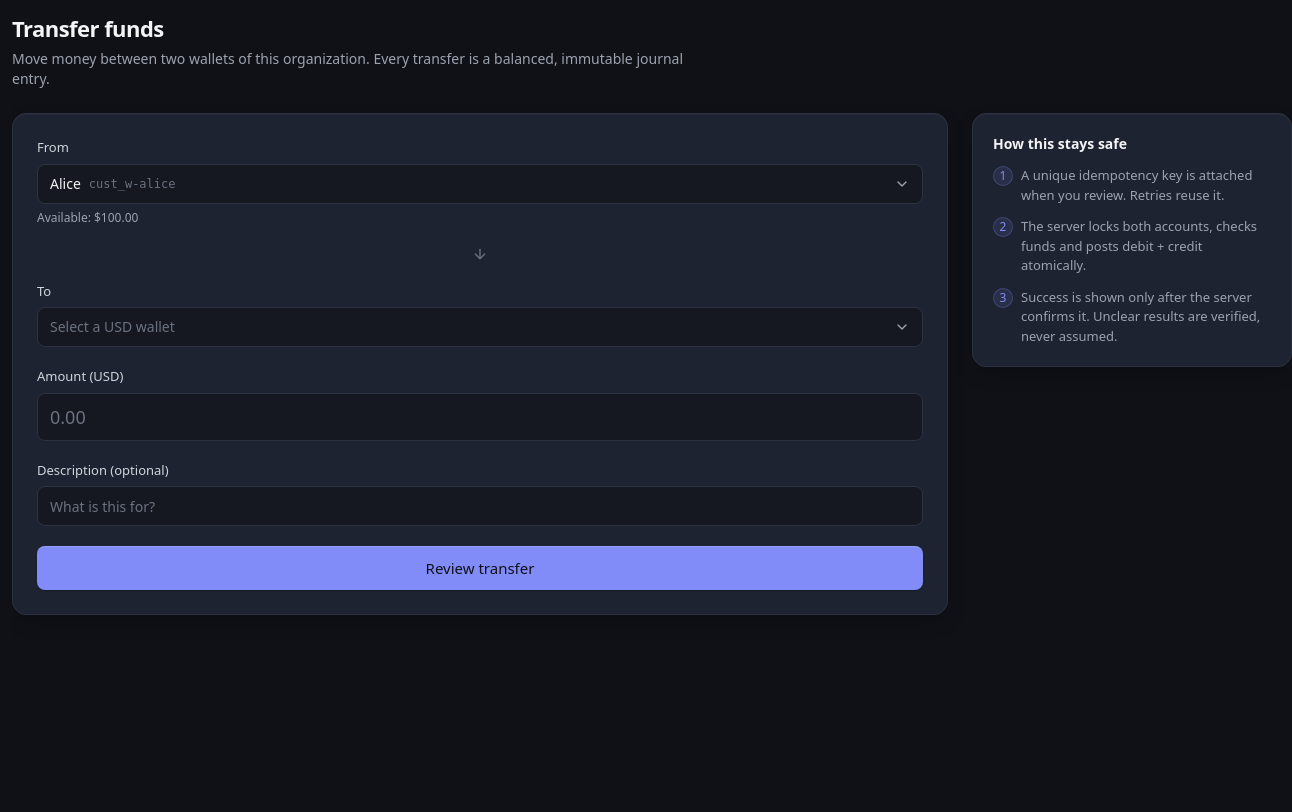
Test: TransferPage › rejects amounts with too many decimals before reviewing
Expected: the text "Available: $100.00" is shown, [37,208,138,226]
Click the dropdown named "to": (112, 326) [37,307,923,347]
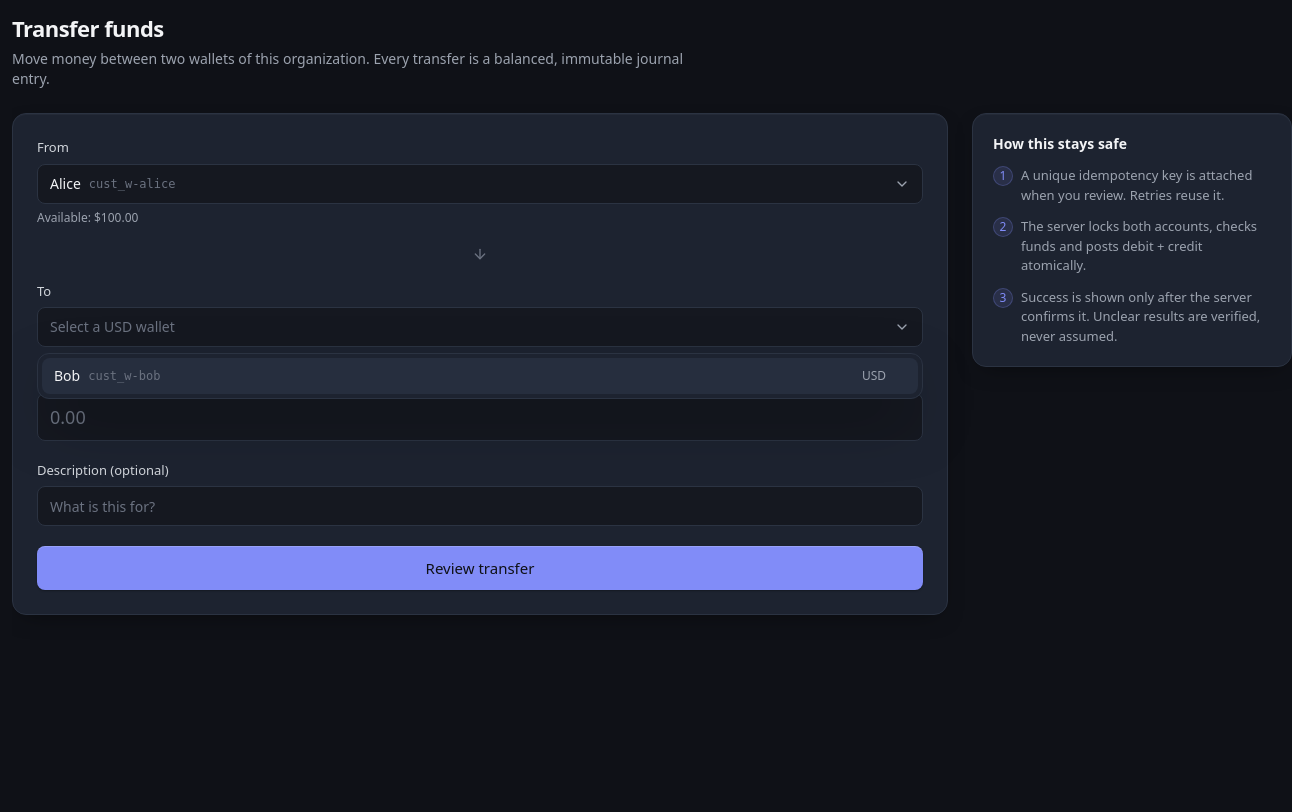
Click the option "Bob cust_w-bob USD": (124, 376) [42,358,918,394]
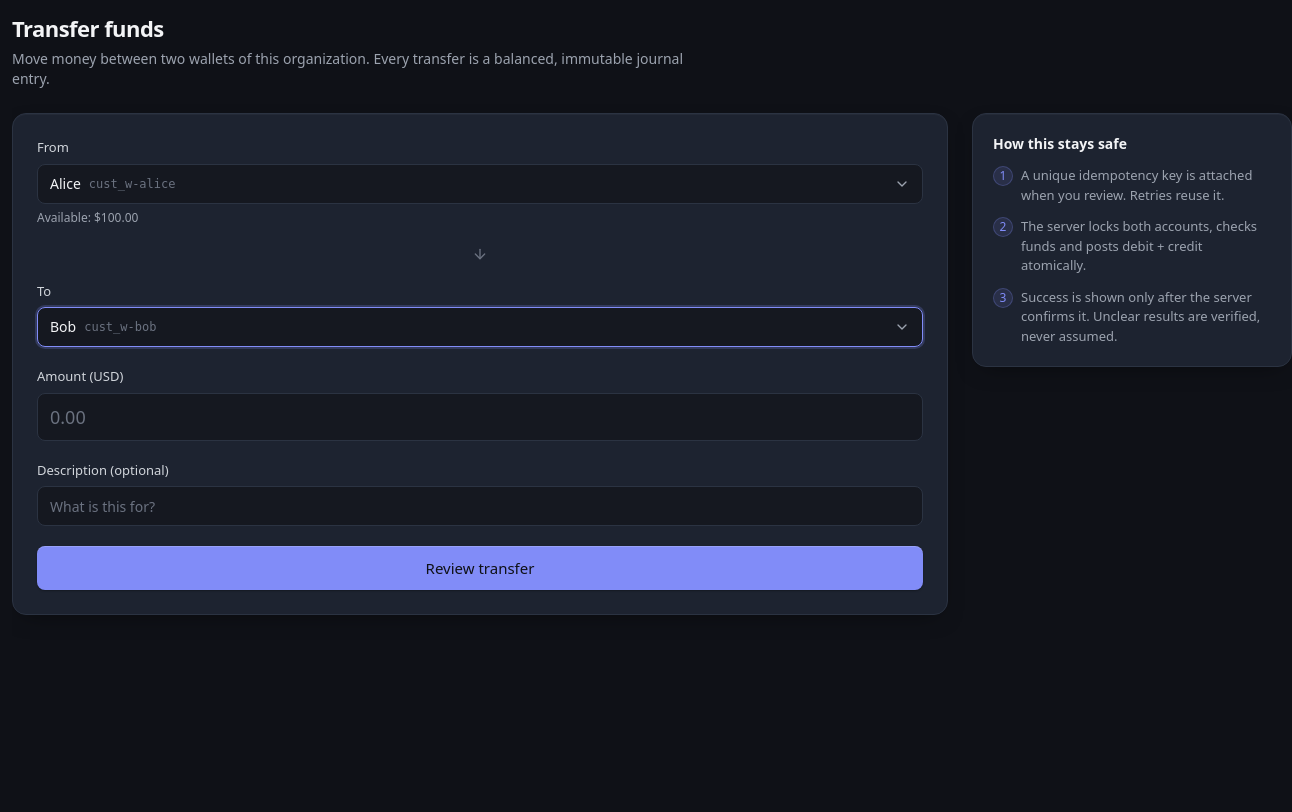
In the field labelled "Amount (USD)": (480, 416) [37,392,923,440], type "12.345"
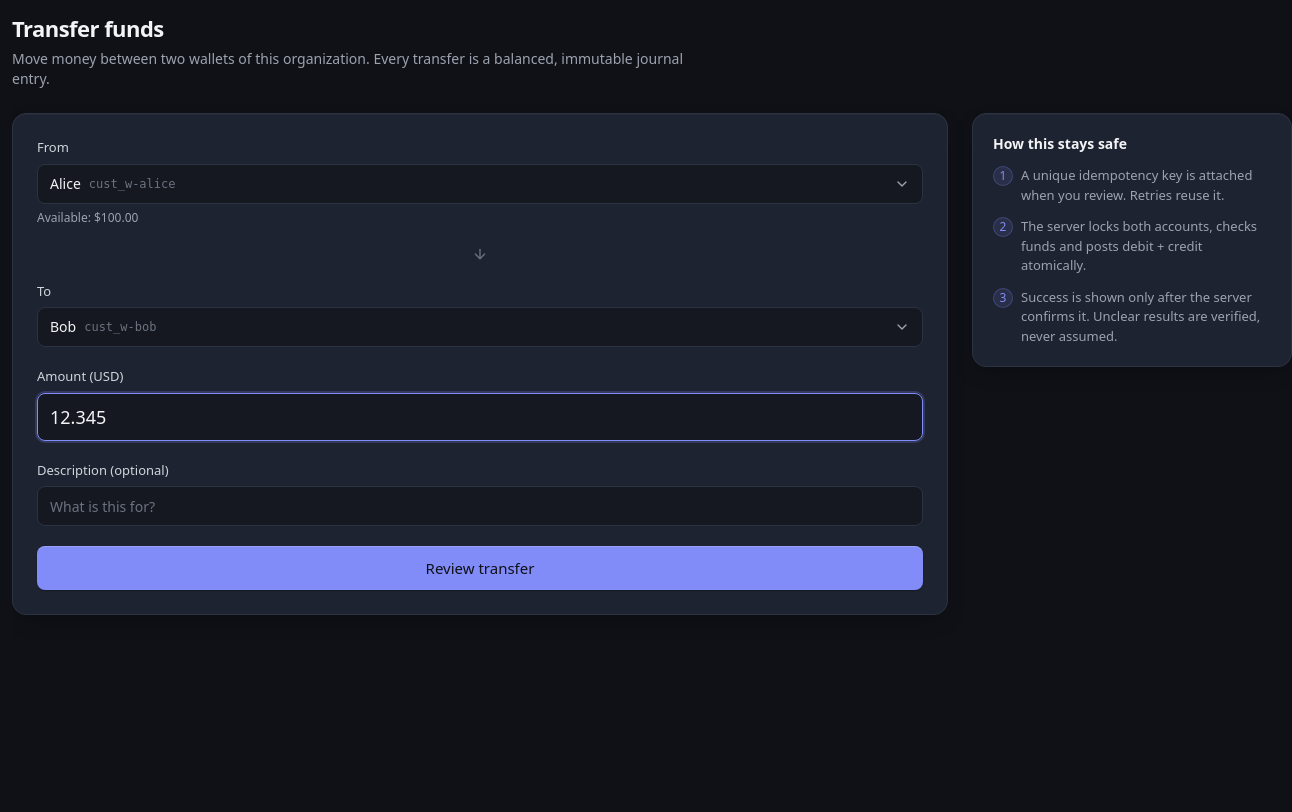
Click the button "Review transfer": (480, 568) [37,546,923,590]
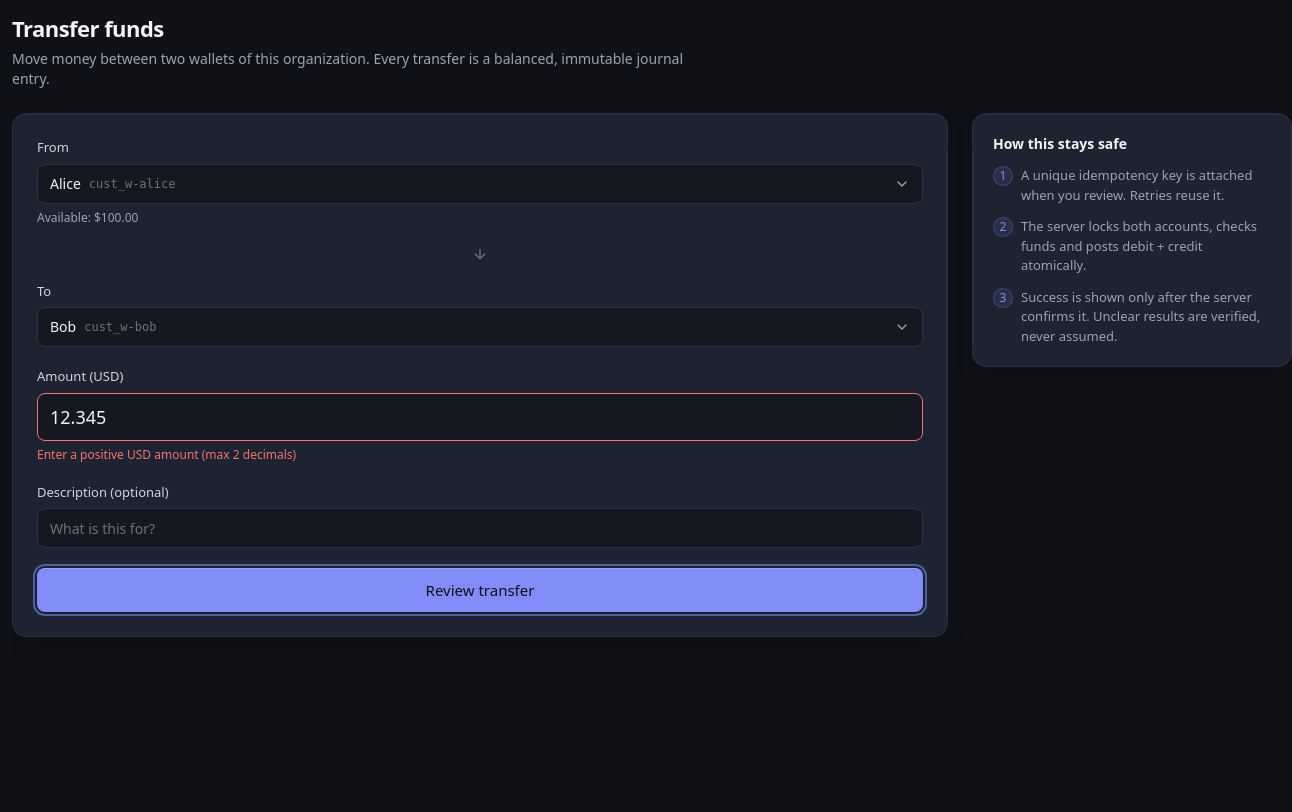
Expected: the message shows "positive USD amount", [37,446,296,462]
